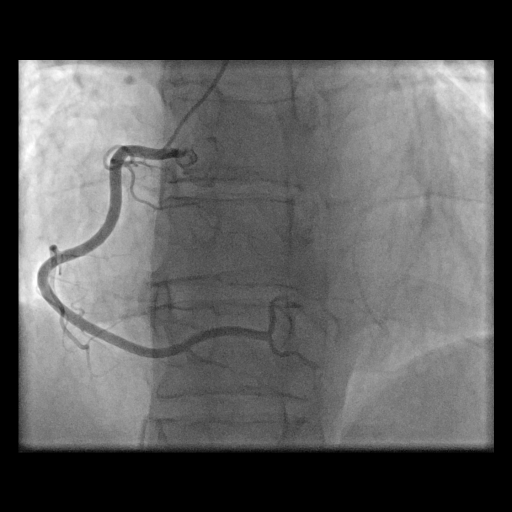RCA: (37, 144, 319, 368)
catherter: (162, 61, 228, 151)
